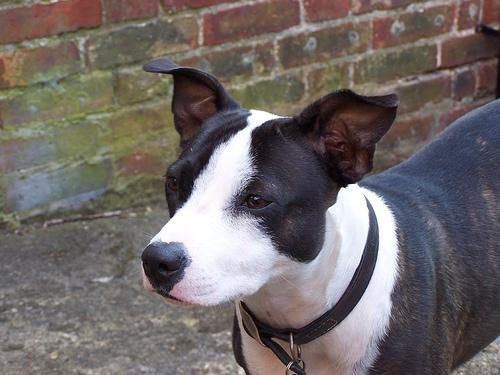dog-staffordshire_bull_terrier: (141, 54, 397, 304)
